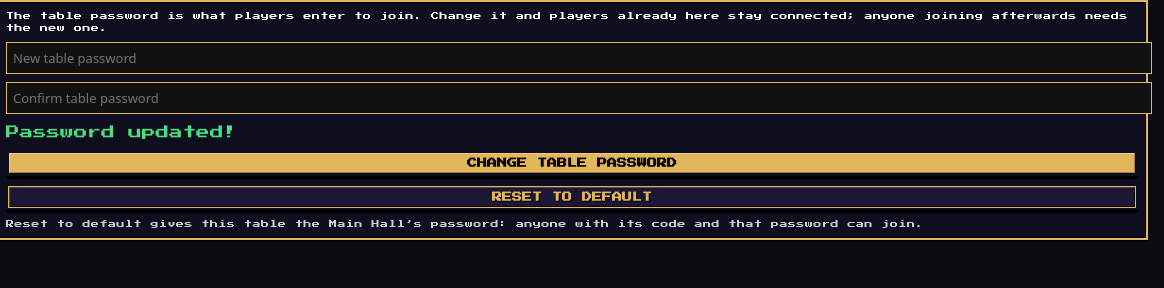
it: TablePasswordControl - Characterization Tests › Password Error Display › should not display password error and room status simultaneously
Click the button "Change table password": (572, 163) left=6, top=150, right=1138, bottom=176
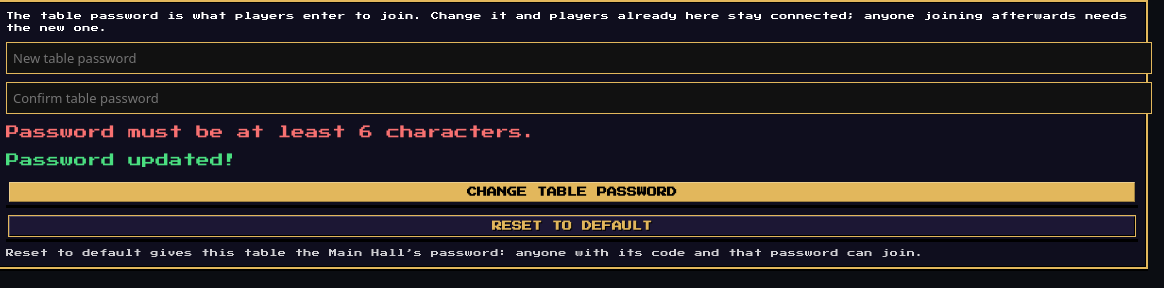
Expected: the text "Password updated!" is shown, left=6, top=153, right=237, bottom=167
Now the text "Password must be at least 6 characters." is shown, box left=6, top=125, right=536, bottom=139
